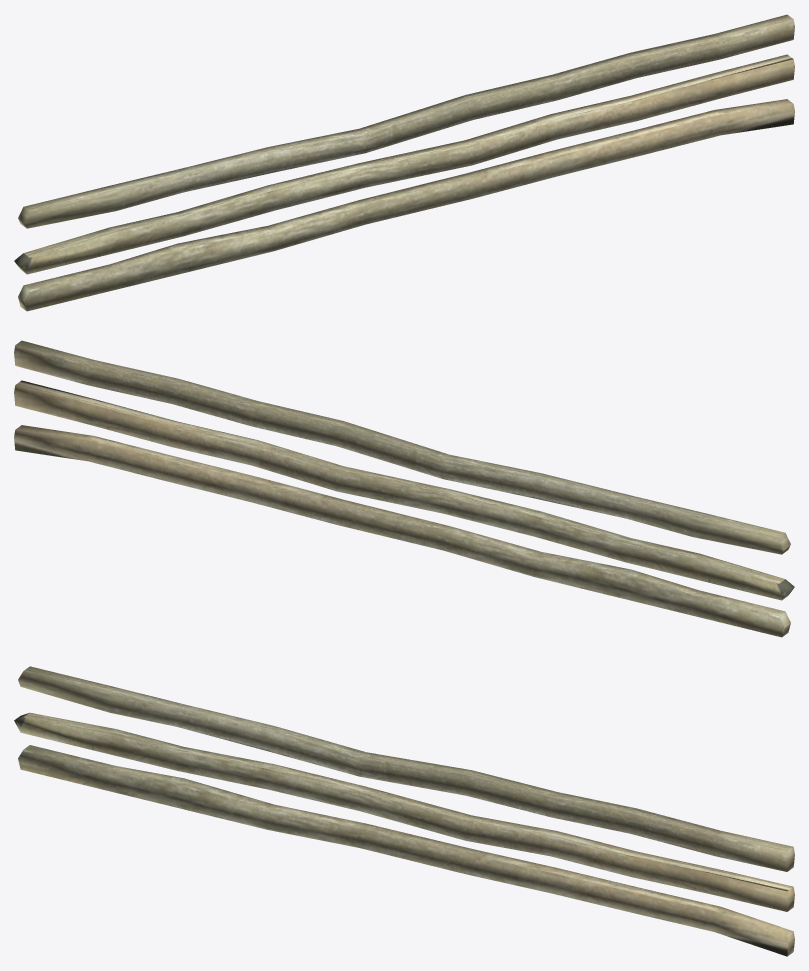
The model's file is fence2_1.obj.
The picture shows the model from 3 angles, top to bottom: view 1: azimuth 30°, elevation 25°; view 2: azimuth 150°, elevation 25°; view 3: azimuth 330°, elevation 25°; orthographic projection.
Parts seen in each view (by area): view 1: wdfen2; view 2: wdfen2; view 3: wdfen2.
Boxes of the visible parts, x1,y1,x2,y2 form: wdfen2: [14, 14, 794, 311]; wdfen2: [14, 340, 794, 637]; wdfen2: [14, 666, 794, 956].
Bounding box in the file's own units: 9 × 1.17 × 0.1305.
1 material, 1 textured.
